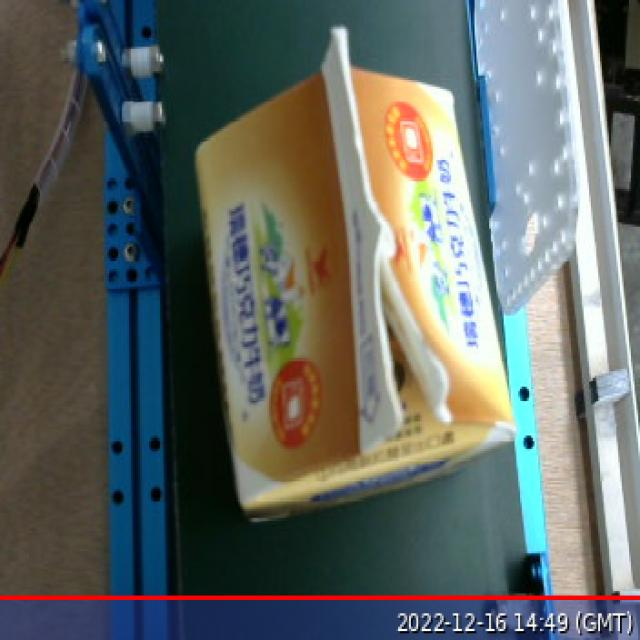non_white_jug: (180, 10, 529, 537)
